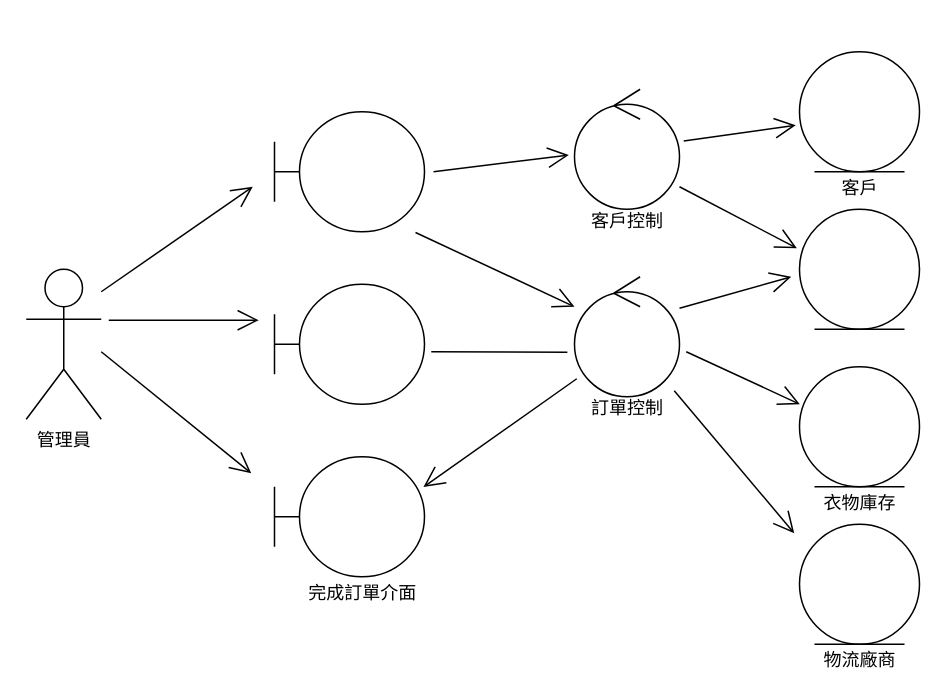
Some shapes in this 947 by 696 pixel diagram are drawn without their labels. The box of each missing label's shape, as (x1, y1, x2, y2) in pixels:
客戶介面: (273, 110, 424, 232)
訂單: (798, 208, 920, 329)
訂單資料介面: (273, 283, 424, 404)
